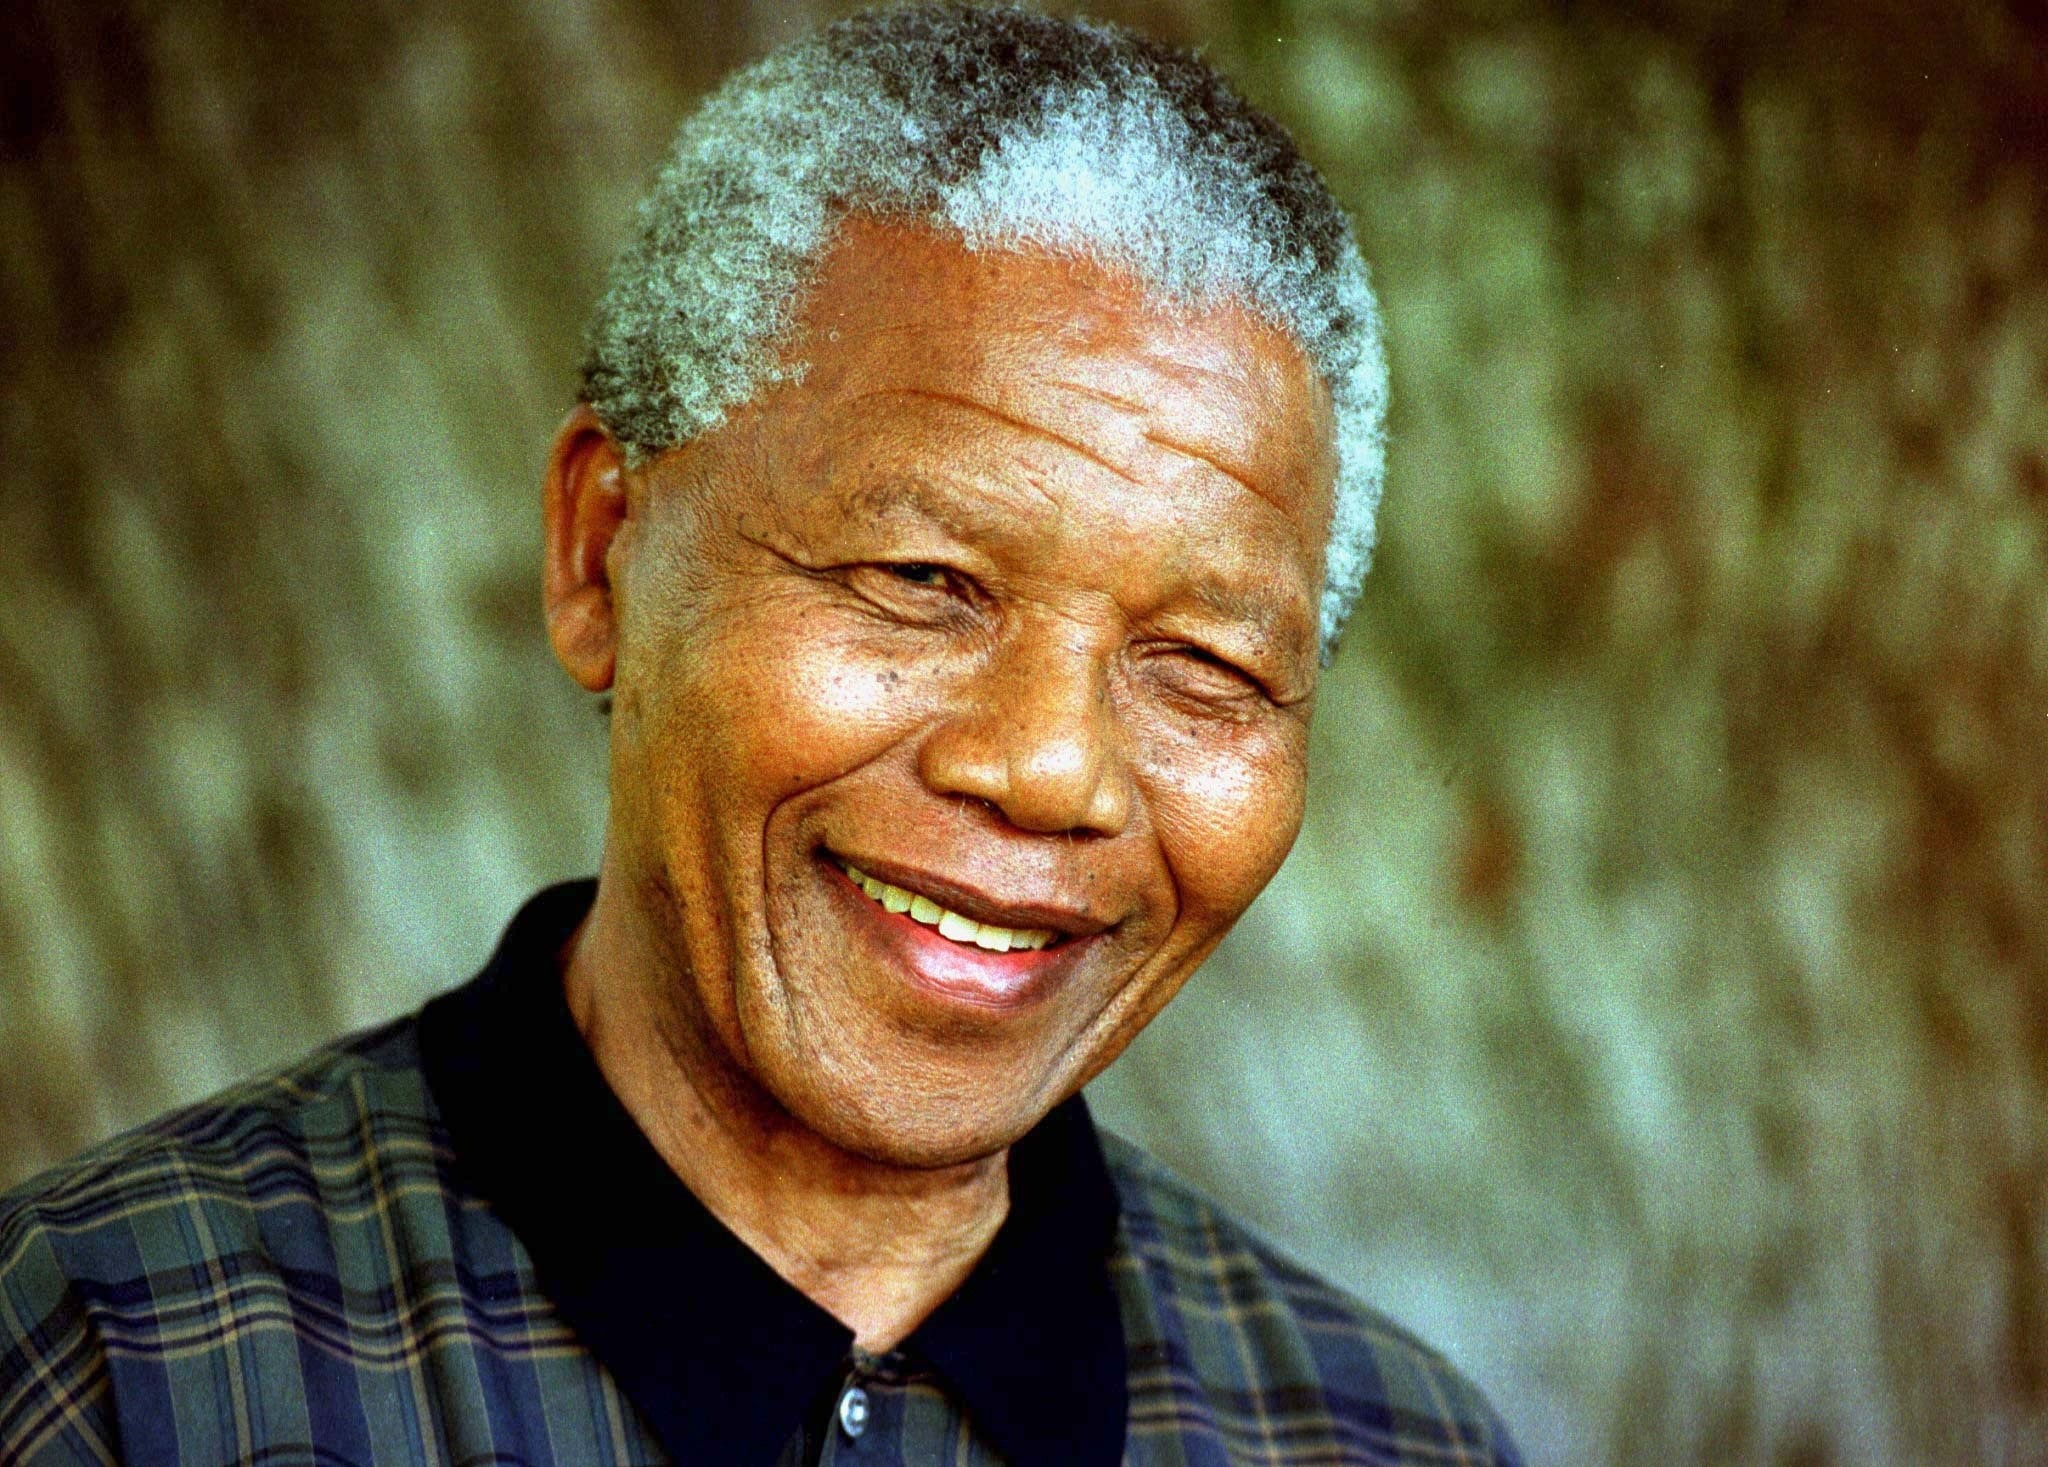face_no_mask: (540, 4, 1385, 1167)
